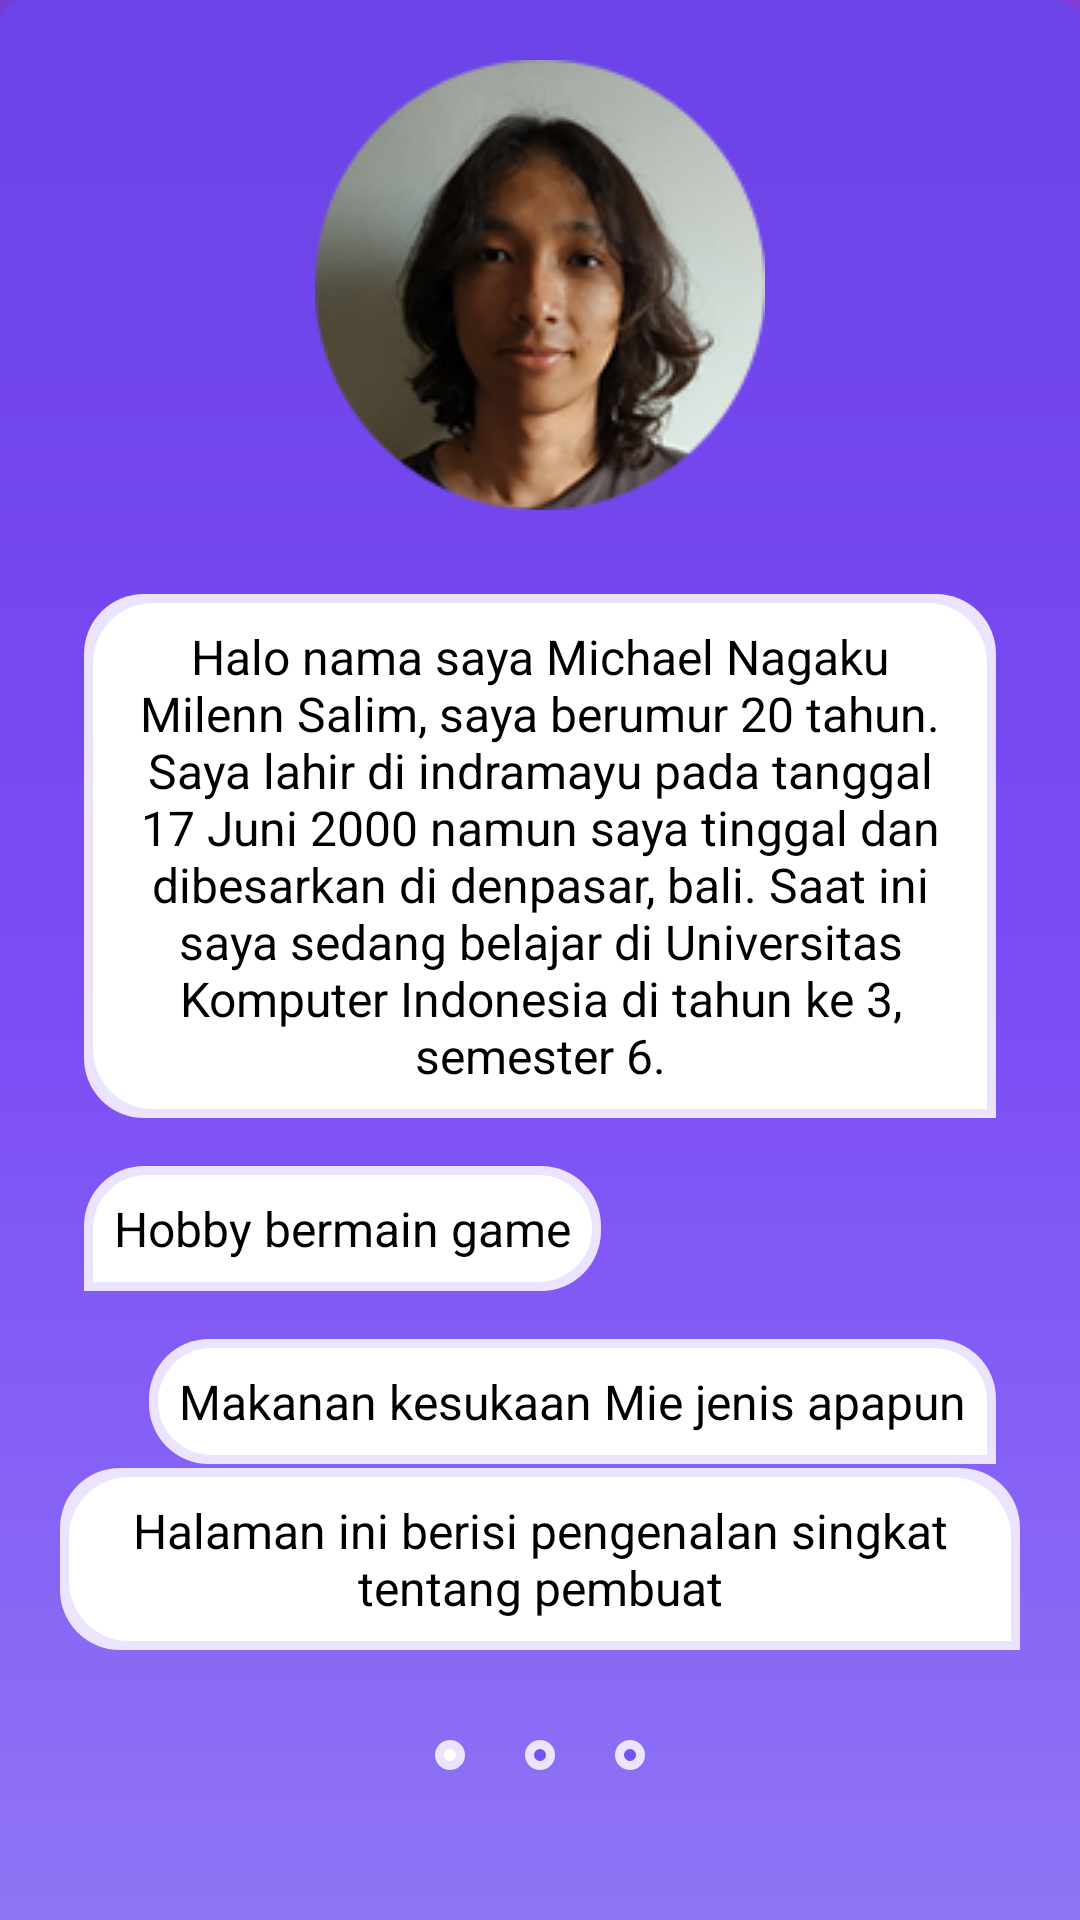

Icons on this 1080w x 1920h Android screen, each with its box as (x1, y1, x2, y2):
bulat kosong: (525, 1740, 555, 1770), (615, 1740, 645, 1770)
